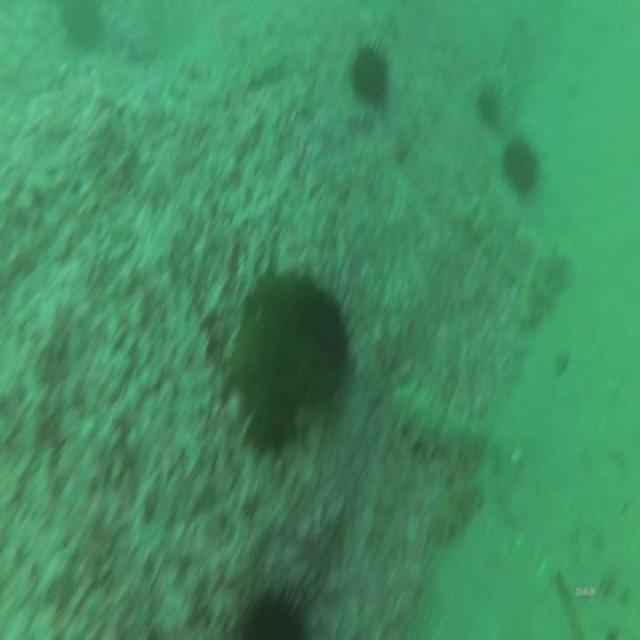echinus: (234, 267, 349, 458), (229, 581, 315, 640), (343, 36, 393, 112), (55, 0, 109, 57), (500, 132, 540, 200), (473, 84, 502, 131)
holothurian: (390, 376, 492, 482), (457, 193, 530, 297), (516, 242, 566, 336), (427, 477, 482, 552)
